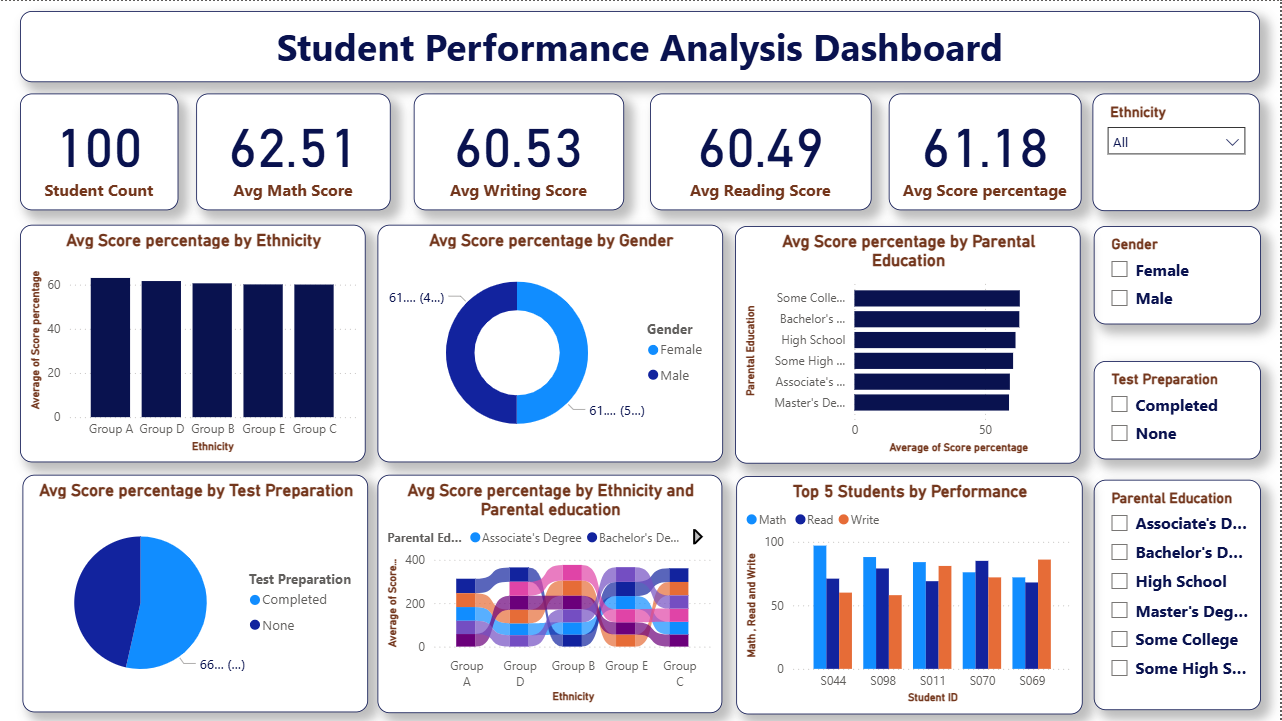

Layout of this report page (visuals, bound fields, positions):
{"tool":"powerbi","page":{"name":"Page 1","canvas":[1280,720],"ordinal":0},"visuals":[{"type":"textbox","box":[19.9,10,1240.2,70.9],"z":0},{"type":"card","fields":{"Values":["Count(Sheet1.Student ID)"]},"box":[20,92.9,158.6,117.1],"z":1000},{"type":"card","fields":{"Values":["Avg(Sheet1.Math Score)"]},"box":[195.7,92.9,194.3,117.1],"z":2000},{"type":"card","fields":{"Values":["Avg(Sheet1.Writing Score)"]},"box":[414.3,92.9,210,117.1],"z":3000},{"type":"card","fields":{"Values":["Avg(Sheet1.Reading Score)"]},"box":[650,92.9,221.4,117.1],"z":4000},{"type":"card","fields":{"Values":["Avg(Sheet1.Score percentage)"]},"box":[888.6,92.9,192.9,117.1],"z":5000},{"type":"slicer","fields":{"Values":["Sheet1.Ethnicity"]},"box":[1092.5,92.5,167.5,117.5],"z":6000},{"type":"slicer","fields":{"Values":["Sheet1.Gender"]},"box":[1093.8,225,167.5,98.8],"z":6001},{"type":"slicer","fields":{"Values":["Sheet1.Parental Education"]},"box":[1093.8,478.8,167.5,230],"z":6002},{"type":"columnChart","title":"Avg Score percentage by Ethnicity","fields":{"Category":["Sheet1.Ethnicity"],"Y":["Avg(Sheet1.Score percentage)"]},"box":[19.9,223.9,345.8,237.6],"z":6003},{"type":"donutChart","title":"Avg Score percentage by Gender","fields":{"Y":["Avg(Sheet1.Score percentage)"],"Category":["Sheet1.Gender"]},"box":[376.9,223.9,345.8,237.6],"z":6004},{"type":"clusteredBarChart","title":"Avg Score percentage by Parental Education","fields":{"Y":["Avg(Sheet1.Score percentage)"],"Category":["Sheet1.Parental Education"]},"box":[735.2,225.2,345.8,237.6],"z":6005},{"type":"pieChart","title":"Avg Score percentage by Test Preparation","fields":{"Y":["Avg(Sheet1.Score percentage)"],"Category":["Sheet1.Test Preparation"]},"box":[22.4,473.9,345.8,237.6],"z":6006},{"type":"ribbonChart","title":"Avg Score percentage by Ethnicity and Parental education","fields":{"Category":["Sheet1.Ethnicity"],"Y":["Avg(Sheet1.Score percentage)"],"Series":["Sheet1.Parental Education"]},"box":[378,473.2,344.8,238.1],"z":6007},{"type":"clusteredColumnChart","title":"Top 5 Students by Performance","fields":{"Y":["Sum(Sheet1.Math Score)","Sum(Sheet1.Reading Score)","Sum(Sheet1.Writing Score)"],"Category":["Sheet1.Student ID"]},"box":[735.8,474.7,346.3,238.1],"z":6008},{"type":"slicer","fields":{"Values":["Sheet1.Test Preparation"]},"box":[1093.8,360,167.5,98.8],"z":6009}]}

Visuals, with their boxes in screenshot pixels (x1, y1, x2, y2), scaled from the page's 1280x720 canvas onto the 1282x721 screenshot:
textbox: {"left": 20, "top": 10, "right": 1262, "bottom": 81}
card - Count(Sheet1.Student ID): {"left": 20, "top": 93, "right": 179, "bottom": 210}
card - Avg(Sheet1.Math Score): {"left": 196, "top": 93, "right": 391, "bottom": 210}
card - Avg(Sheet1.Writing Score): {"left": 415, "top": 93, "right": 625, "bottom": 210}
card - Avg(Sheet1.Reading Score): {"left": 651, "top": 93, "right": 873, "bottom": 210}
card - Avg(Sheet1.Score percentage): {"left": 890, "top": 93, "right": 1083, "bottom": 210}
slicer - Sheet1.Ethnicity: {"left": 1094, "top": 93, "right": 1262, "bottom": 210}
slicer - Sheet1.Gender: {"left": 1096, "top": 225, "right": 1263, "bottom": 324}
slicer - Sheet1.Parental Education: {"left": 1096, "top": 479, "right": 1263, "bottom": 710}
"Avg Score percentage by Ethnicity" columnChart: {"left": 20, "top": 224, "right": 366, "bottom": 462}
"Avg Score percentage by Gender" donutChart: {"left": 377, "top": 224, "right": 724, "bottom": 462}
"Avg Score percentage by Parental Education" clusteredBarChart: {"left": 736, "top": 226, "right": 1083, "bottom": 463}
"Avg Score percentage by Test Preparation" pieChart: {"left": 22, "top": 475, "right": 369, "bottom": 712}
"Avg Score percentage by Ethnicity and Parental education" ribbonChart: {"left": 379, "top": 474, "right": 724, "bottom": 712}
"Top 5 Students by Performance" clusteredColumnChart: {"left": 737, "top": 475, "right": 1084, "bottom": 714}
slicer - Sheet1.Test Preparation: {"left": 1096, "top": 360, "right": 1263, "bottom": 459}
